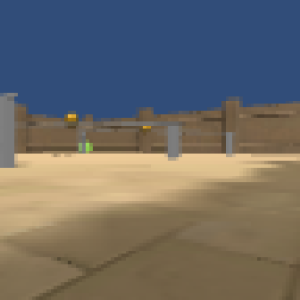goodGoal: (81, 139, 95, 152)
goodGoalMulti: (64, 112, 80, 130)
wall: (1, 90, 16, 170), (165, 124, 182, 161), (226, 130, 233, 158)
